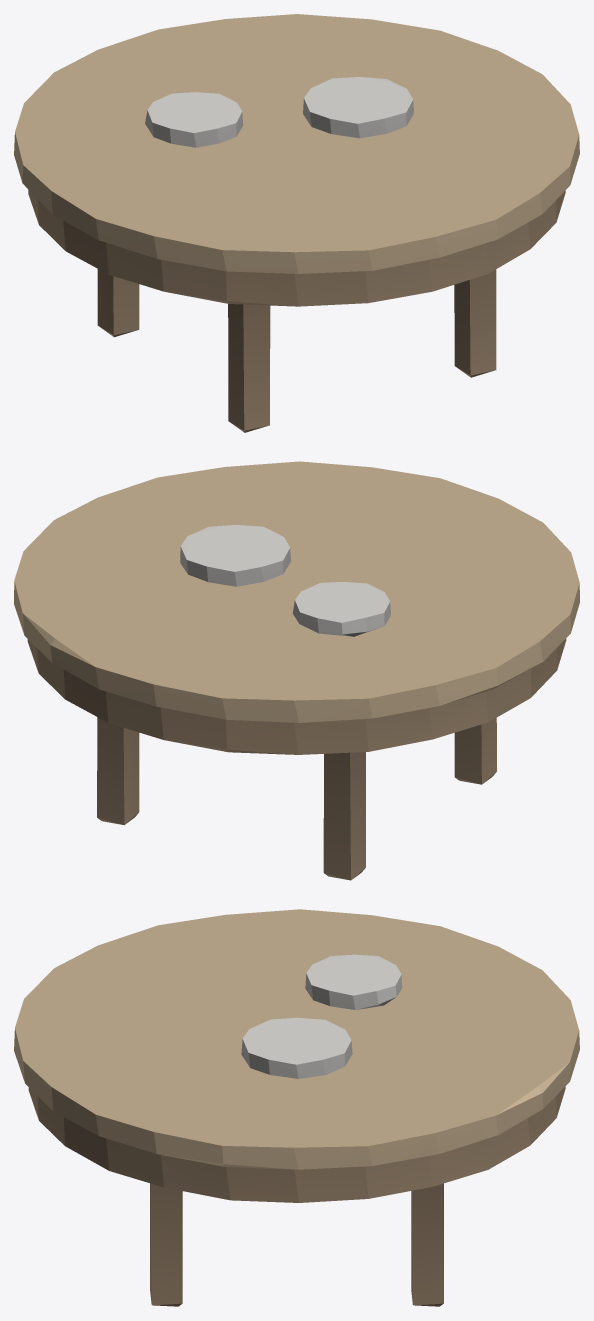
The model's file is furn_soban__oak_low.glb.
3 renders of one model, top to bottom at view 1: azimuth 30°, elevation 25°; view 2: azimuth 150°, elevation 25°; view 3: azimuth 270°, elevation 25°, orthographic.
Size of the model in its own units: 0.7966 by 0.3684 by 0.7966.
